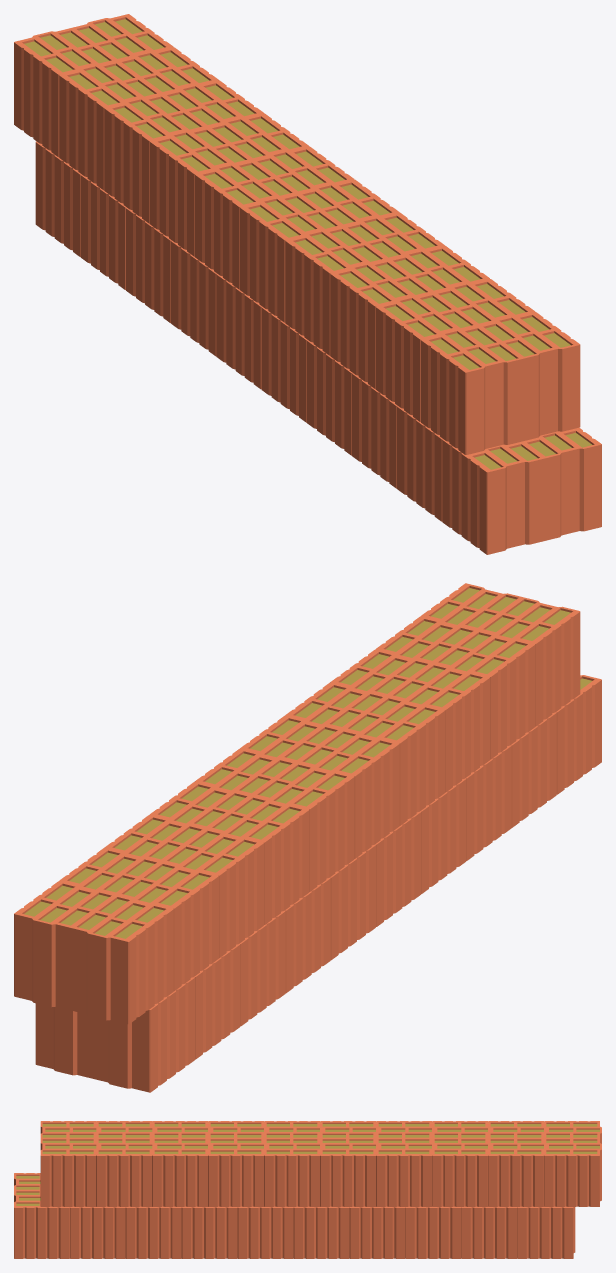
3 views of the same model, one above another, from view 1: azimuth 30°, elevation 25°; view 2: azimuth 150°, elevation 25°; view 3: azimuth 270°, elevation 25° (orthographic). The views are drawn at different scales.
Parts seen in each view (by area): view 1: Außenziegel template.003; view 2: Außenziegel template.003; view 3: Außenziegel template.003.
Boxes of the visible parts, <box> form: Außenziegel template.003: <box>14,14,601,554</box>; Außenziegel template.003: <box>14,583,601,1092</box>; Außenziegel template.003: <box>14,1121,601,1258</box>.
Bounding box in the file's own units: 0.3653 × 0.5044 × 2.61.
